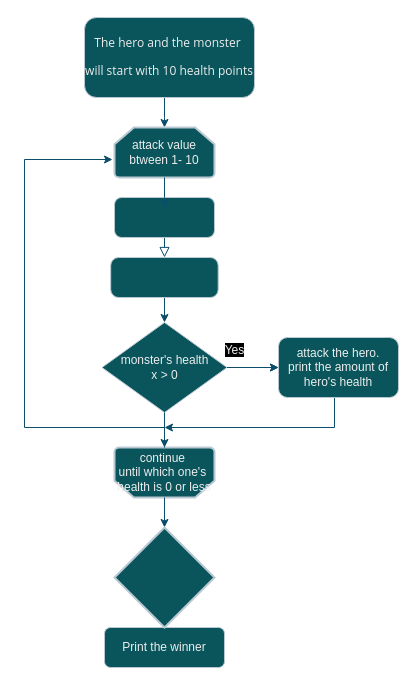
Image size: 416x685. Some labels were removed from this diagram. The shapes that lost their labels are listed below. From the top down, each one's box as (x1, y1, x2, y2) in pixels, then its label:
(114, 196, 214, 238): The hero will attack first
(110, 256, 218, 298): Print the amount of monster's heath
(113, 526, 215, 628): monster > 0 or hero > 0
